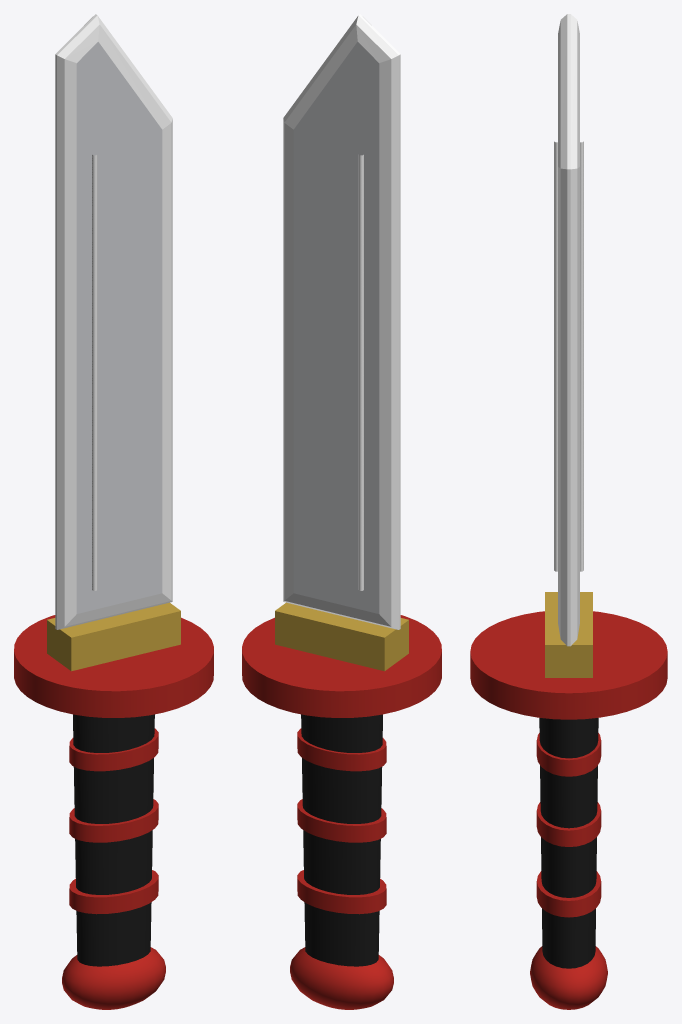
Rendered from 10_Uncommon_Crimson_Tanto.glb.
3 views of the same model, side by side, from view 1: azimuth 30°, elevation 25°; view 2: azimuth 150°, elevation 25°; view 3: azimuth 270°, elevation 25° (orthographic).
Visible parts, largest first — view 1: blade_2, handle_4, tsuba_0, habaki_1, pommel_9, blade_inlay_11, handle_band_7, handle_band_6, handle_band_5; view 2: blade_2, handle_4, tsuba_0, habaki_1, pommel_9, blade_inlay_10, handle_band_7, handle_band_6, handle_band_5; view 3: tsuba_0, blade_2, handle_4, pommel_9, habaki_1, blade_inlay_10, blade_inlay_11, handle_band_7, handle_band_6, handle_band_5.
Boxes of the visible parts, <box> form: blade_2: <box>55,14,172,629</box>; handle_4: <box>73,714,154,966</box>; tsuba_0: <box>14,615,213,717</box>; habaki_1: <box>47,602,180,671</box>; pommel_9: <box>62,947,165,1009</box>; blade_inlay_11: <box>92,154,97,590</box>; handle_band_7: <box>69,870,158,914</box>; handle_band_6: <box>69,799,158,842</box>; handle_band_5: <box>69,728,158,771</box>; blade_2: <box>283,14,400,629</box>; handle_4: <box>301,714,382,966</box>; tsuba_0: <box>242,615,441,717</box>; habaki_1: <box>275,602,408,671</box>; pommel_9: <box>290,947,393,1009</box>; blade_inlay_10: <box>358,154,363,590</box>; handle_band_7: <box>297,870,386,914</box>; handle_band_6: <box>297,799,386,842</box>; handle_band_5: <box>297,728,386,771</box>; tsuba_0: <box>470,611,667,719</box>; blade_2: <box>558,14,579,646</box>; handle_4: <box>539,718,598,968</box>; pommel_9: <box>530,946,607,1009</box>; habaki_1: <box>545,592,592,677</box>; blade_inlay_10: <box>580,141,583,571</box>; blade_inlay_11: <box>554,141,557,571</box>; handle_band_7: <box>536,871,601,917</box>; handle_band_6: <box>536,802,601,846</box>; handle_band_5: <box>536,733,601,776</box>.
Bounding box in the file's own units: 0.108 × 0.5916 × 0.108.
10 materials, 10 textured.
